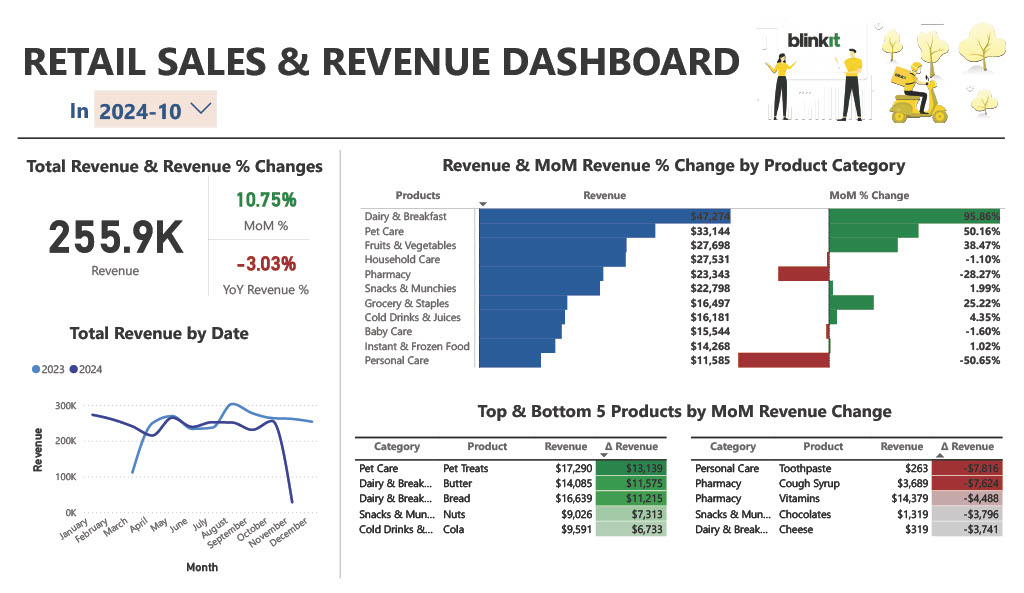

This screenshot's page, from the dashboard's own definition file:
{"tool":"powerbi","page":{"name":"Page 1","canvas":[1280,720],"ordinal":0},"visuals":[{"type":"card","fields":{"Values":["orders.MoM Revenue %"]},"box":[260,208.8,145,80],"z":0},{"type":"card","fields":{"Values":["orders.Revenue"]},"box":[33.8,213.8,220,148.8],"z":1000},{"type":"image","box":[932.5,7.5,341.2,140],"z":2000},{"type":"card","fields":{"Values":["orders.YoY Revenue %"]},"box":[260,288.8,145,80],"z":3000},{"type":"lineChart","fields":{"Series":["orders.order_year"],"Category":["orders.order_day.Variation.Date Hierarchy.Month"],"Y":["orders.Revenue"]},"box":[33.8,430,371.2,281.2],"z":4000},{"type":"slicer","fields":{"Values":["orders.YearMonth"]},"box":[108.8,91.2,172.5,67.5],"z":5000},{"type":"pivotTable","fields":{"Rows":["products.category"],"Values":["orders.Revenue","order_items.MoM % Change"]},"box":[445,218.8,835,245],"z":6000},{"type":"textbox","box":[82.5,383.8,275,46.2],"z":6500},{"type":"tableEx","fields":{"Values":["products.category","products.product_name","orders.Revenue","orders.MoM Revenue Change"]},"box":[438.8,530,418.8,155],"z":7000},{"type":"textbox","box":[547.5,173.8,620,47.5],"z":8000},{"type":"textbox","box":[27.5,175,383.8,43.8],"z":10000},{"type":"shape","box":[21.2,147.5,1233.8,27.5],"z":11000},{"type":"shape","box":[405,175,38.8,536.2],"z":12000},{"type":"shape","box":[253.8,208.8,13,151.2],"z":13000},{"type":"shape","box":[260,282.5,126.2,12.5],"z":14000},{"type":"textbox","box":[21.2,26.2,931.2,75],"z":15000},{"type":"textbox","box":[591.2,482.5,532.5,47.5],"z":16000},{"type":"image","box":[970,0,95,77.5],"z":17000},{"type":"textbox","box":[82.5,101.2,37.5,47.5],"z":18000},{"type":"tableEx","fields":{"Values":["products.category","products.product_name","orders.Revenue","orders.MoM Revenue Change"]},"box":[857.5,530,418.8,155],"z":19000}]}

Visuals, with their boxes in screenshot pixels (x1, y1, x2, y2), scaled from the page's 1280x720 canvas onto the 1024x593 screenshot:
card - orders.MoM Revenue %: locate(208, 172, 324, 238)
card - orders.Revenue: locate(27, 176, 203, 299)
image: locate(746, 6, 1019, 121)
card - orders.YoY Revenue %: locate(208, 238, 324, 304)
lineChart - orders.order_year x orders.order_day.Variation.Date Hierarchy.Month: locate(27, 354, 324, 586)
slicer - orders.YearMonth: locate(87, 75, 225, 131)
pivotTable - products.category x orders.Revenue: locate(356, 180, 1023, 382)
textbox: locate(66, 316, 286, 354)
tableEx - products.category x products.product_name: locate(351, 437, 686, 564)
textbox: locate(438, 143, 934, 182)
textbox: locate(22, 144, 329, 180)
shape: locate(17, 121, 1004, 144)
shape: locate(324, 144, 355, 586)
shape: locate(203, 172, 213, 296)
shape: locate(208, 233, 309, 243)
textbox: locate(17, 22, 762, 83)
textbox: locate(473, 397, 899, 437)
image: locate(776, 0, 852, 64)
textbox: locate(66, 83, 96, 122)
tableEx - products.category x products.product_name: locate(686, 437, 1021, 564)
